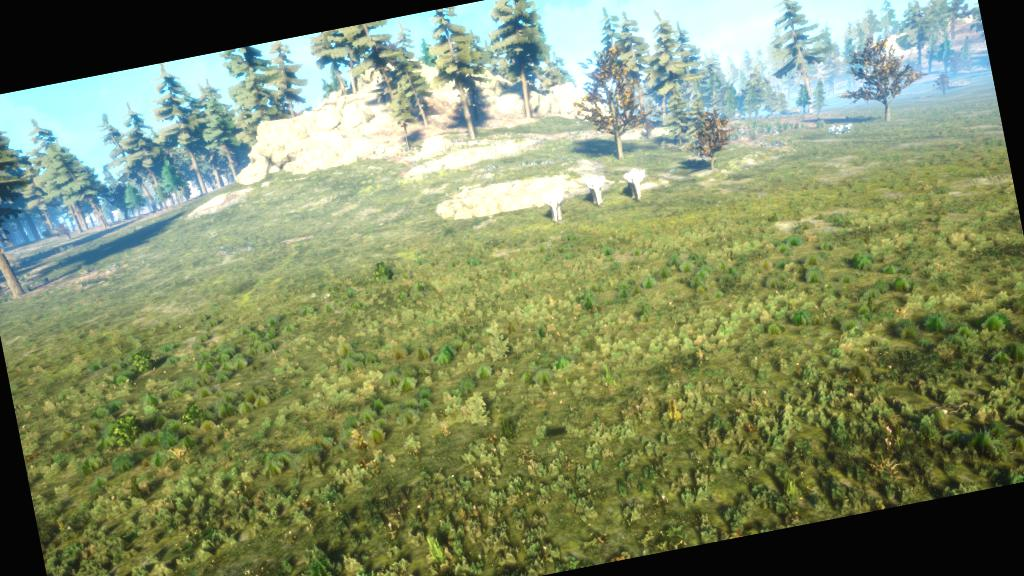elephant: (616, 159, 658, 214), (534, 180, 579, 231), (578, 166, 616, 217)
